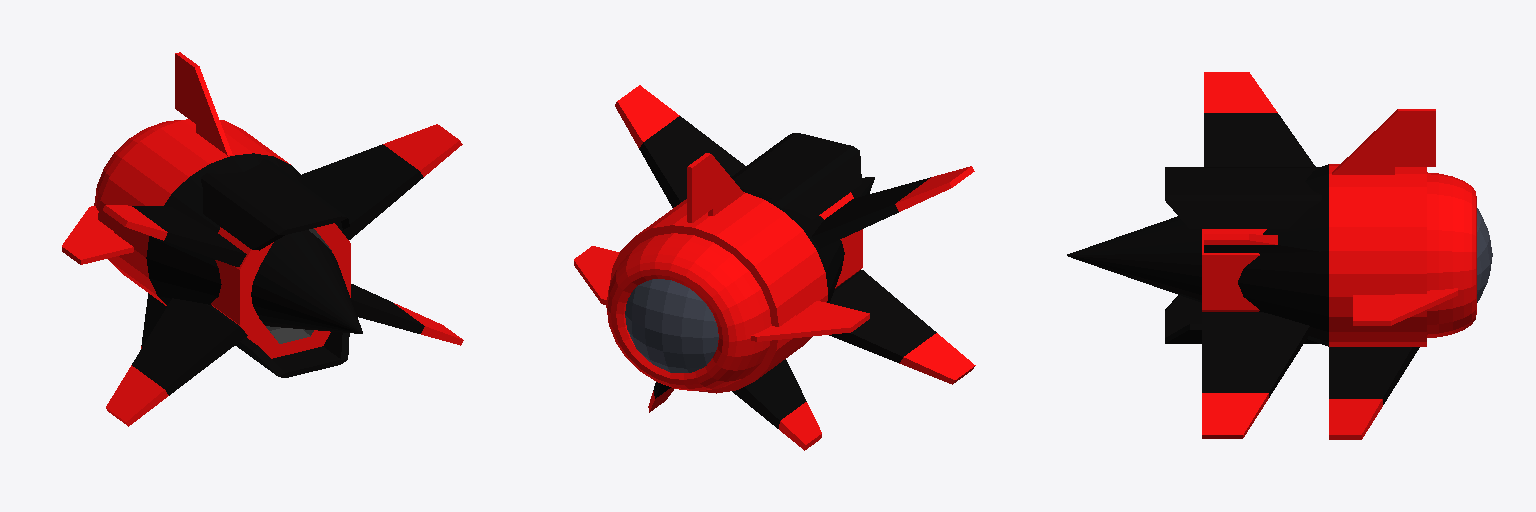
File: SuicideBomber_SpaceRush.obj
3 views of the same model, side by side, from view 1: azimuth 30°, elevation 25°; view 2: azimuth 150°, elevation 25°; view 3: azimuth 270°, elevation 25° (orthographic).
Size of the model in its own units: 2.38 by 1.97 by 2.6.